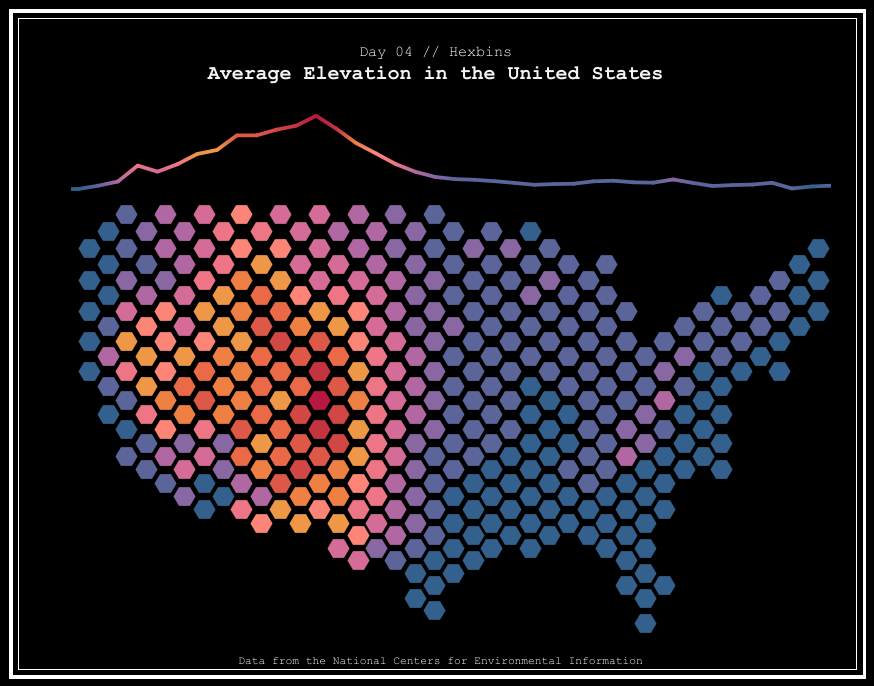

This screenshot's page, from the dashboard's own definition file:
{"tool":"tableau","page":{"name":"Dashboard 2","canvas":[700,550],"ordinal":0},"visuals":[{"type":"worksheet","param":"horz","box":[7,6.9,686,536.2]},{"type":"worksheet","title":"Hex","mark":"Shape","rows":["Calculation_1093248845027188748"],"cols":["Calculation_1093248845026996235"],"box":[10,9.9,680,530.3]},{"type":"worksheet","box":[19,25,659,52]},{"type":"worksheet","title":"Line","mark":"Automatic","rows":["Elev"],"cols":["Calculation_1093248845026996235"],"box":[57,72,608,84]},{"type":"worksheet","box":[19.6,521.1,665.7,13.8]}]}

Visuals, with their boxes in screenshot pixels (x1, y1, x2, y2), scaled from the page's 700x550 canvas onto the 874x686 screenshot:
worksheet: <bbox>9, 9, 865, 677</bbox>
"Hex" worksheet (Shape marks): <bbox>12, 12, 862, 674</bbox>
worksheet: <bbox>24, 31, 847, 96</bbox>
"Line" worksheet: <bbox>71, 90, 830, 195</bbox>
worksheet: <bbox>24, 650, 856, 667</bbox>
